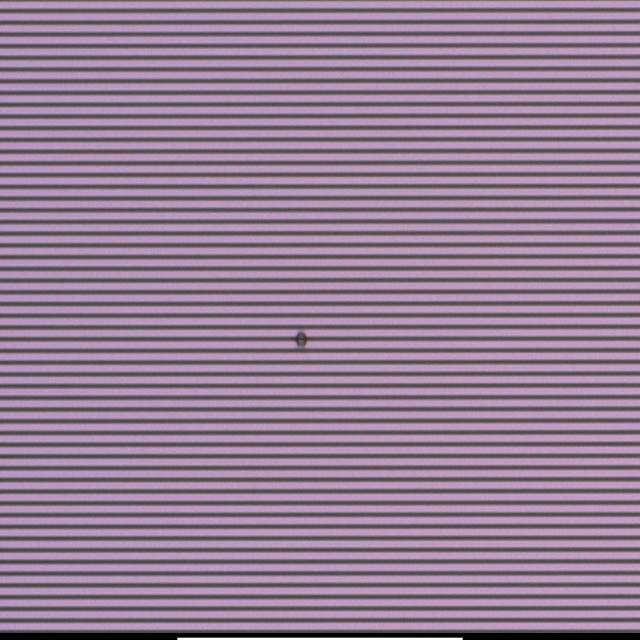03_intrusion: (286, 315, 316, 356)
